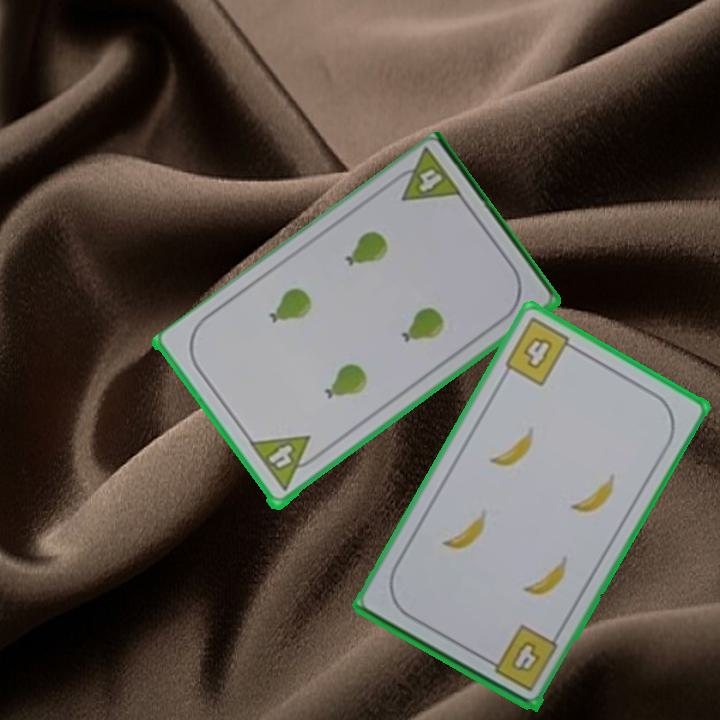4b: (501, 314, 581, 389), (481, 621, 561, 695)
4p: (385, 146, 466, 206), (247, 432, 324, 495)
